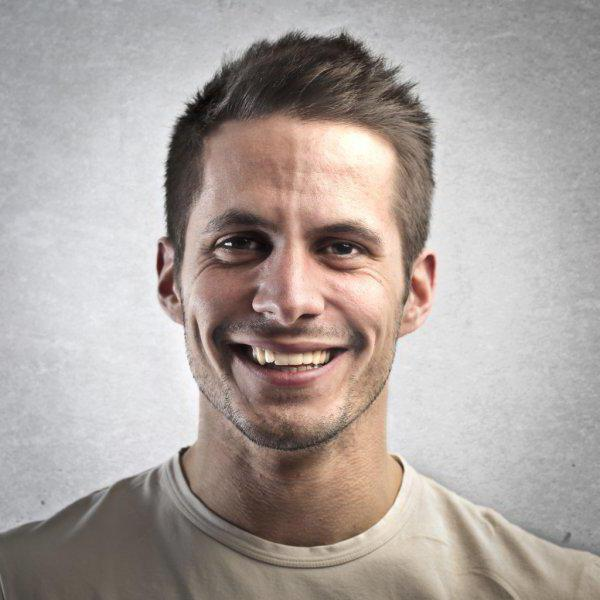Sober: (185, 130, 391, 422)
